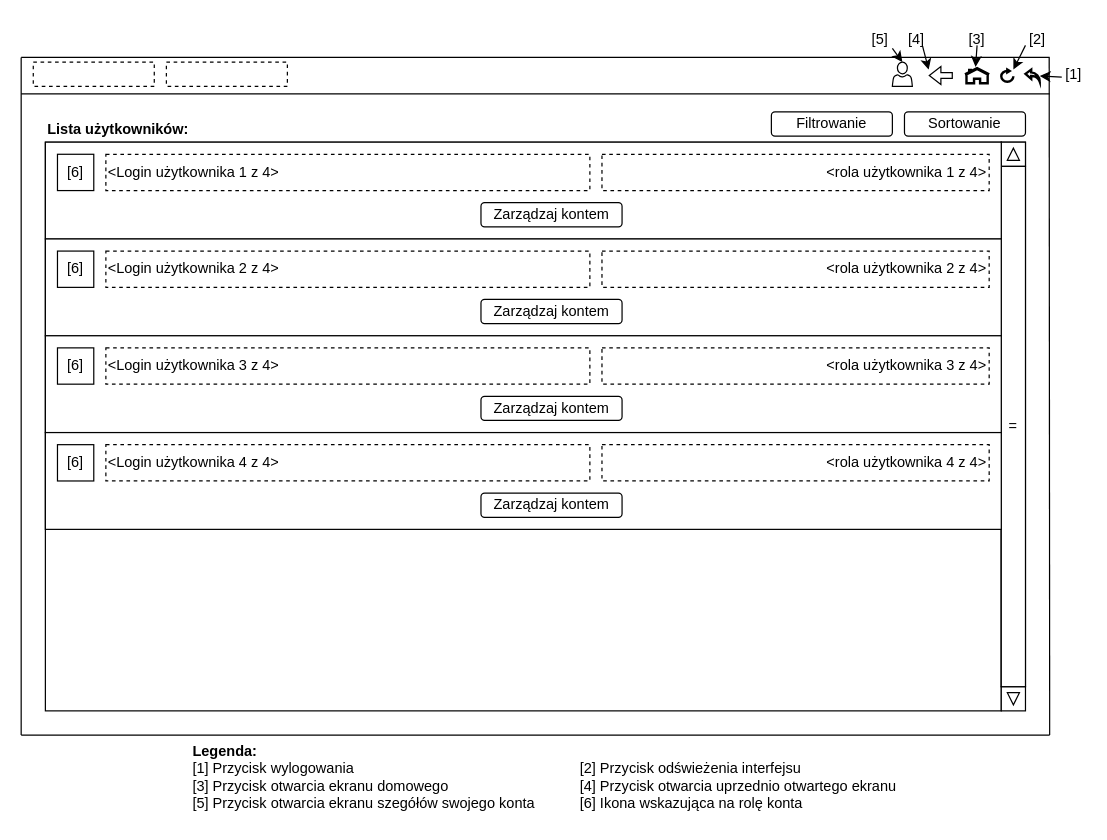
This 1107x840 diagram has some shape labels left out. Here are the shapes that lost their labels. From the top down, the box of each, then its label:
(32, 61, 154, 86): login
(165, 61, 287, 86): rola
